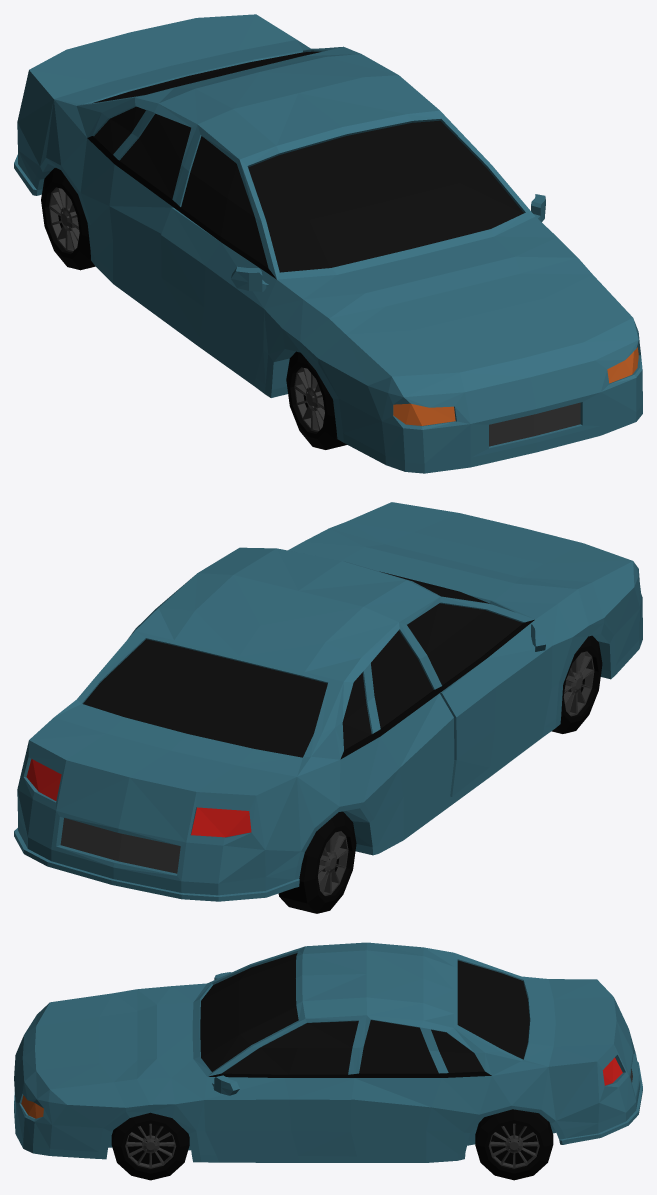
File: NormalCar1.obj
The picture shows the model from 3 angles, top to bottom: view 1: azimuth 30°, elevation 25°; view 2: azimuth 150°, elevation 25°; view 3: azimuth 270°, elevation 25°; orthographic projection. The views are drawn at different scales.
Visible parts, largest first — view 1: NormalCar1, NormalCar1_BackWheels, NormalCar1_FrontRightWheel; view 2: NormalCar1, NormalCar1_BackWheels, NormalCar1_FrontRightWheel; view 3: NormalCar1, NormalCar1_BackWheels, NormalCar1_FrontLeftWheel.
Boxes of the visible parts, <box> form: NormalCar1: <box>14,14,642,473</box>; NormalCar1_BackWheels: <box>41,168,95,270</box>; NormalCar1_FrontRightWheel: <box>286,351,346,449</box>; NormalCar1: <box>14,502,642,901</box>; NormalCar1_BackWheels: <box>278,811,356,913</box>; NormalCar1_FrontRightWheel: <box>551,635,602,733</box>; NormalCar1: <box>14,942,642,1162</box>; NormalCar1_BackWheels: <box>475,1109,553,1180</box>; NormalCar1_FrontLeftWheel: <box>111,1112,189,1180</box>.
Size of the model in its own units: 1.81 by 1.18 by 4.22.
